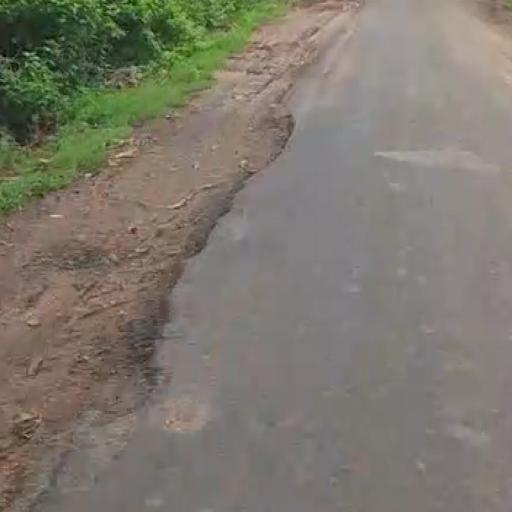edge_damage: (75, 82, 337, 440)
